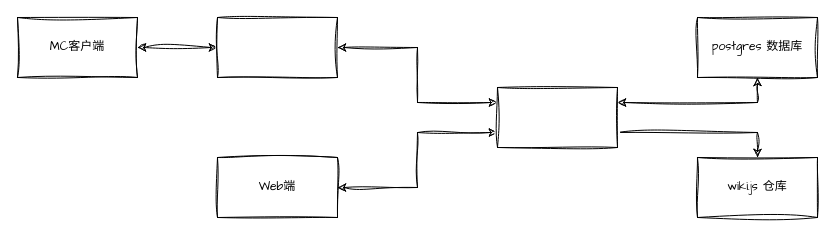
Image size: 835x235. Some labels were removed from this diagram. The centre of each missing label's shape, as x and y in pixels:
MCDR: the point at 277,47
后端: the point at 557,117
